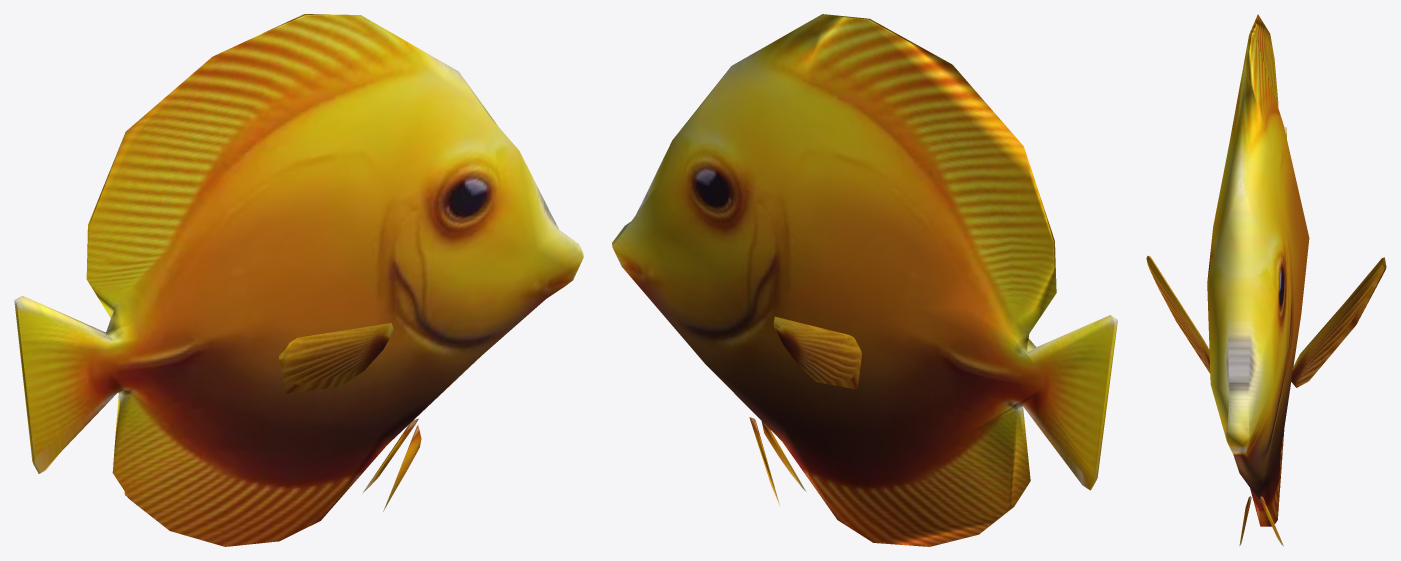
Rendered from Fish1.glb.
3 renders of one model, left to right at view 1: azimuth 30°, elevation 25°; view 2: azimuth 150°, elevation 25°; view 3: azimuth 270°, elevation 25°, orthographic. The views are drawn at different scales.
Visible parts, largest first — view 1: Obj3d66-19413450-6-963; view 2: Obj3d66-19413450-6-963; view 3: Obj3d66-19413450-6-963.
Boxes of the visible parts, bbox=[...] form: Obj3d66-19413450-6-963: bbox=[14, 14, 583, 546]; Obj3d66-19413450-6-963: bbox=[612, 14, 1117, 546]; Obj3d66-19413450-6-963: bbox=[1146, 14, 1386, 546].
Bounding box in the file's own units: 0.8551 × 0.796 × 0.3504.
2 materials, 2 textured.
